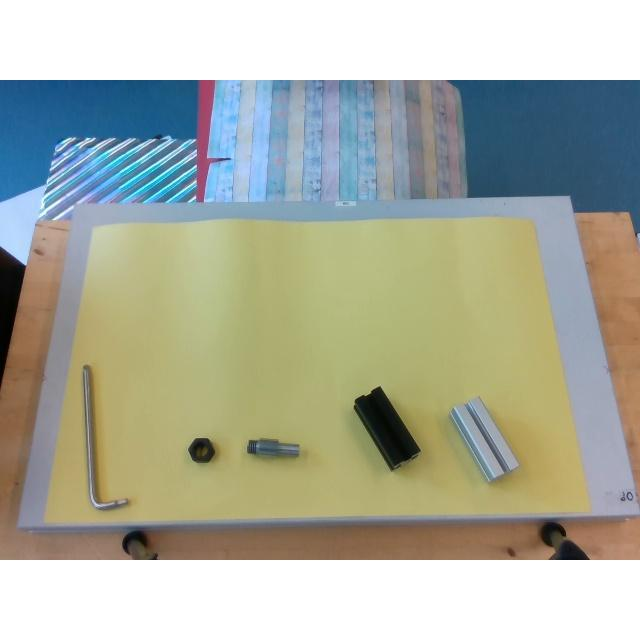AllenKey: (82, 365, 128, 509)
Axis2: (246, 438, 300, 456)
F20_20_G: (354, 386, 420, 470)
M20: (186, 438, 214, 462)
S40_40_G: (449, 397, 518, 481)
